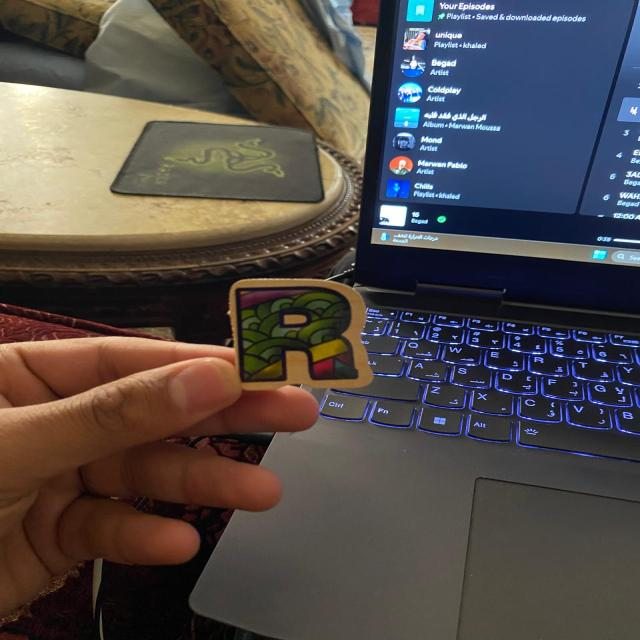R: (229, 278, 373, 390)
